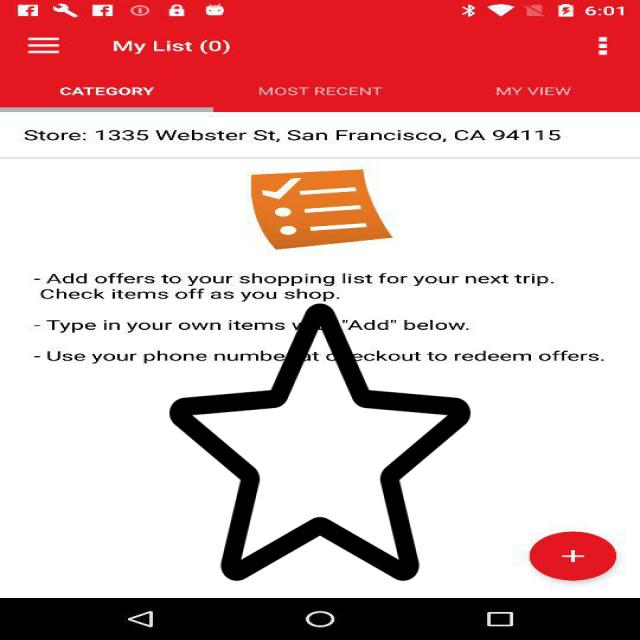forced continuity: (170, 297, 470, 587)
